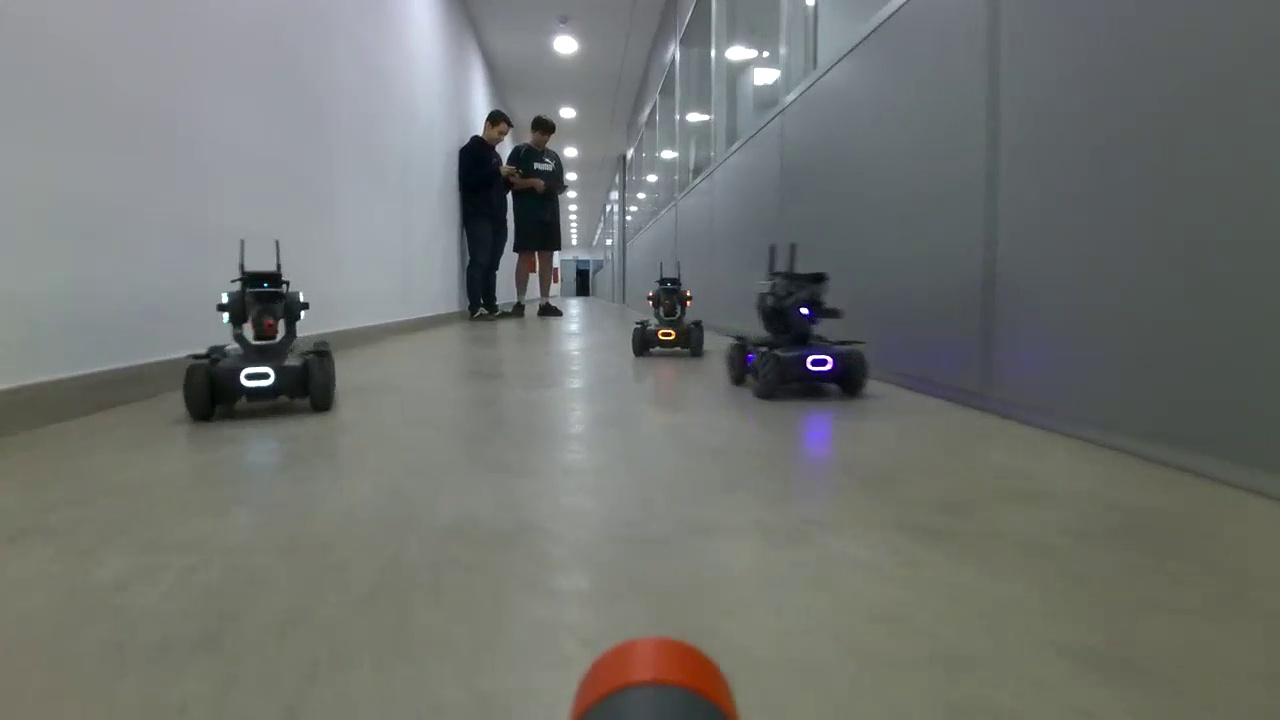robot: (182, 273, 337, 415), (725, 274, 870, 405), (631, 284, 708, 359)
